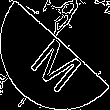M_NE: (23, 21, 87, 89)
